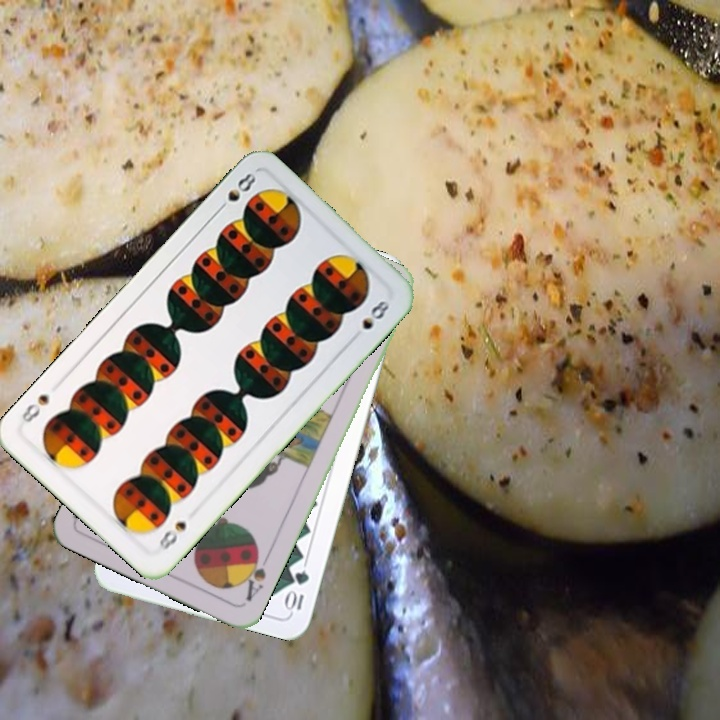G10: (283, 566, 312, 615)
S8: (212, 168, 259, 216), (155, 517, 190, 553)
SA: (237, 545, 269, 604)
